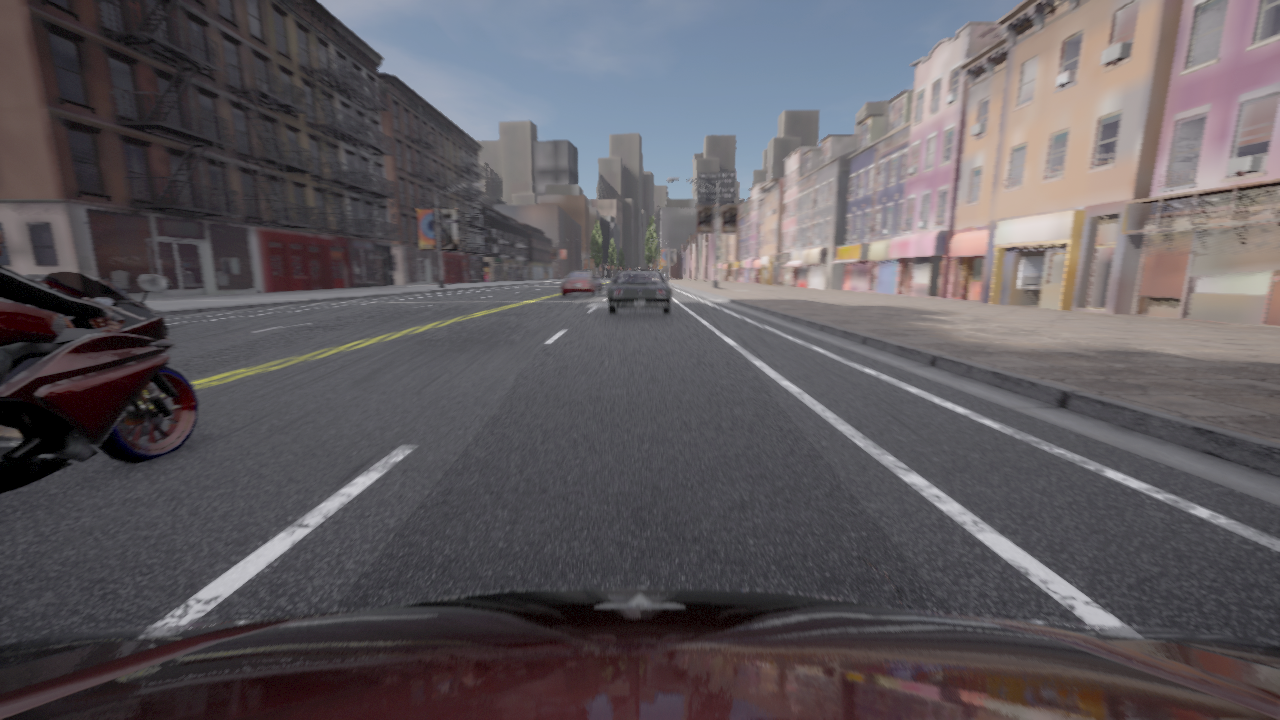cyclist: (0, 588, 1279, 719), (0, 270, 198, 494), (607, 271, 671, 313), (560, 271, 601, 296), (633, 269, 645, 270)
